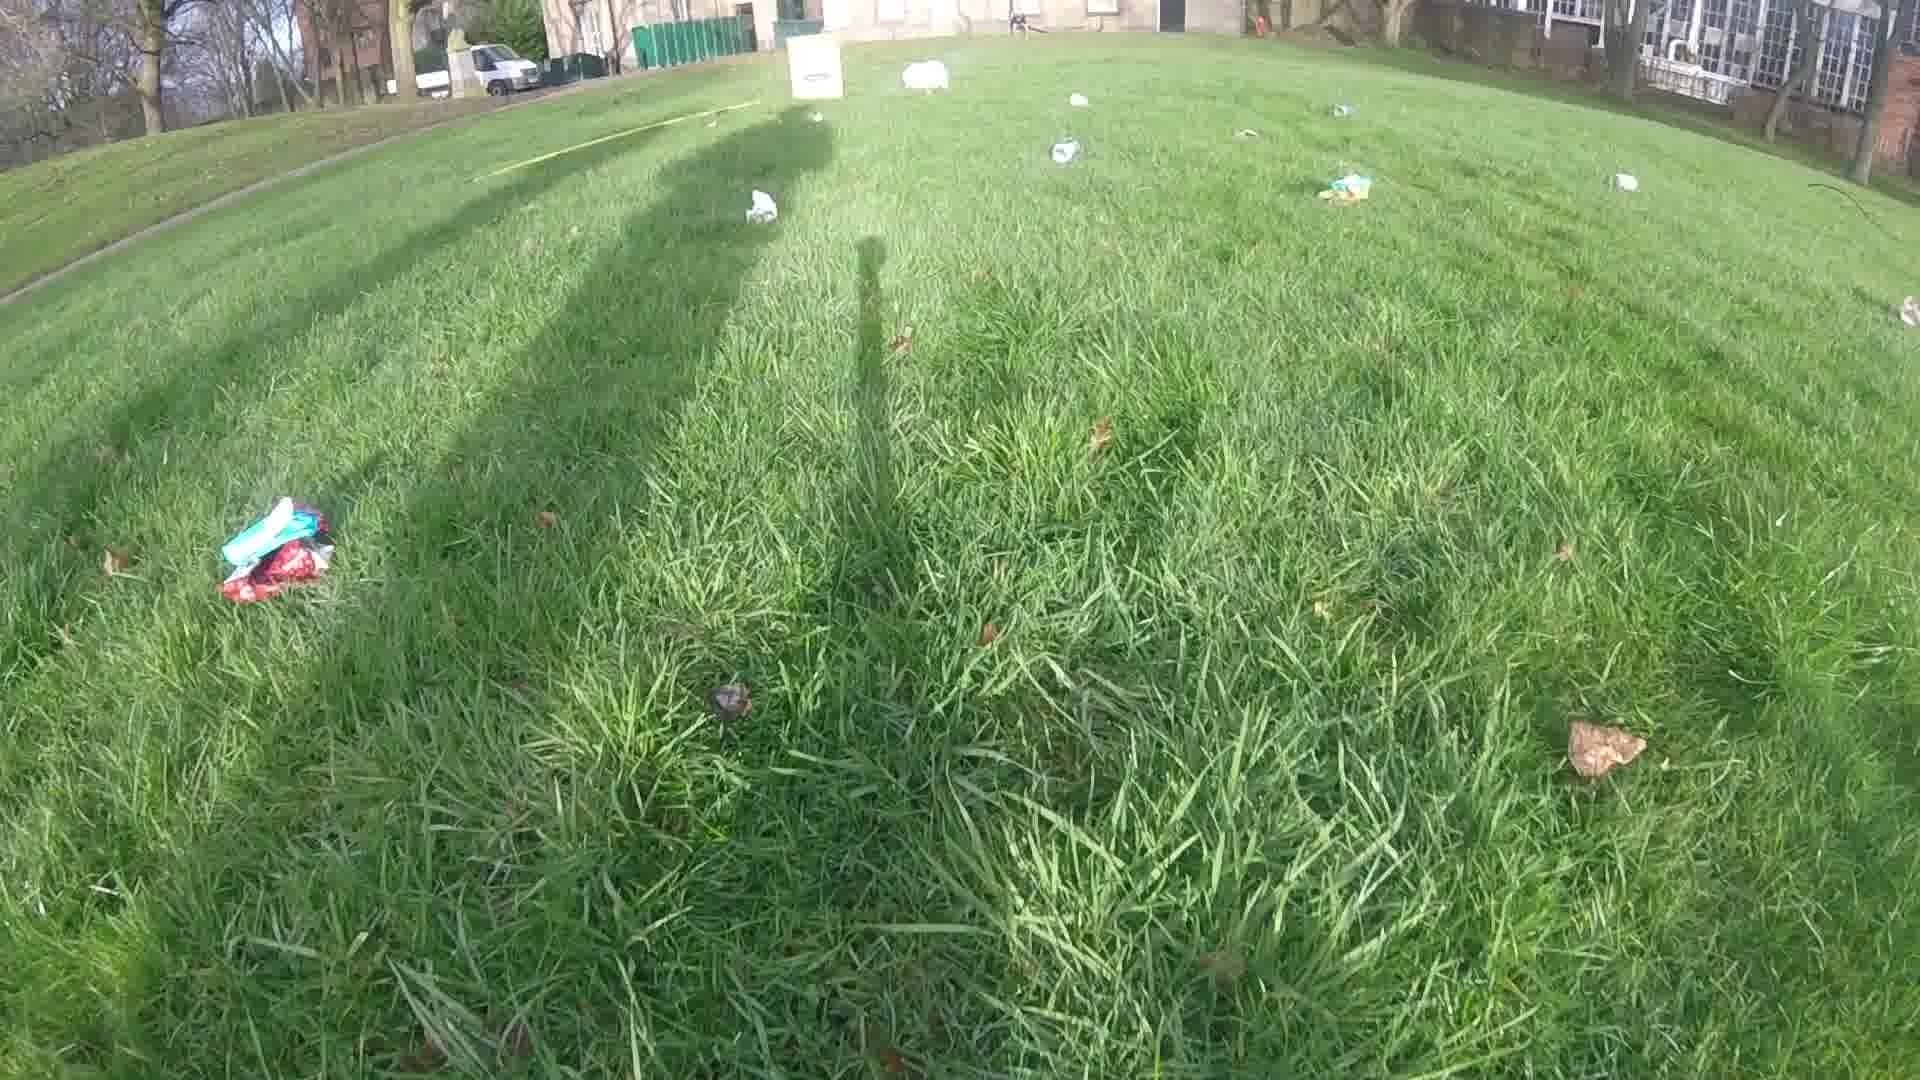litter: (225, 498, 324, 600), (783, 33, 844, 98), (899, 57, 951, 92), (1317, 171, 1370, 206), (745, 190, 781, 223), (1898, 290, 1917, 327), (1054, 140, 1083, 164), (1611, 171, 1636, 196), (1069, 92, 1092, 109), (1332, 104, 1357, 119), (1232, 131, 1259, 138), (814, 109, 827, 120)
